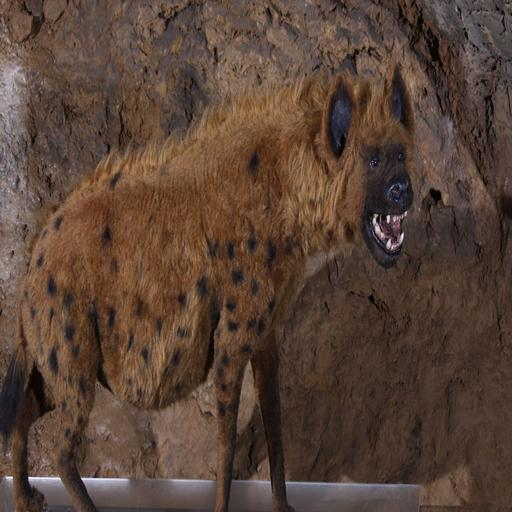Hyena: (0, 61, 429, 512)
